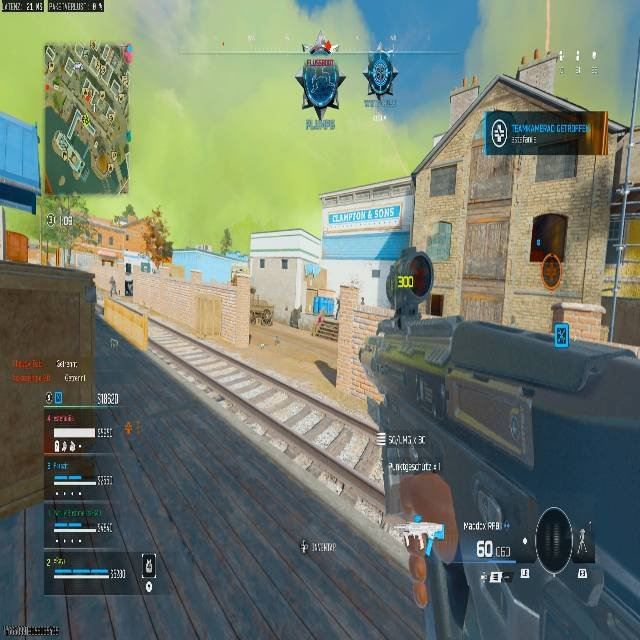player: (297, 35, 343, 127)
